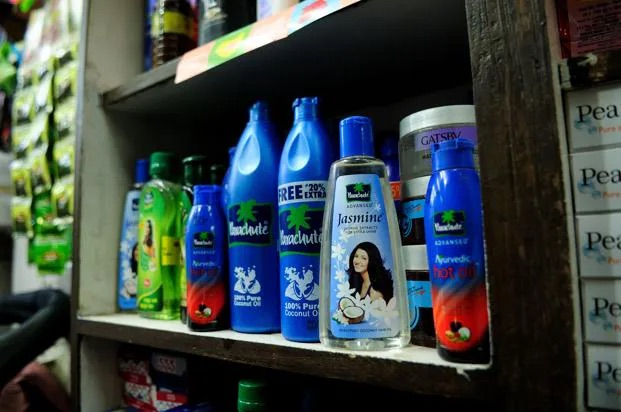parachute: (219, 93, 410, 355), (425, 181, 480, 274)
